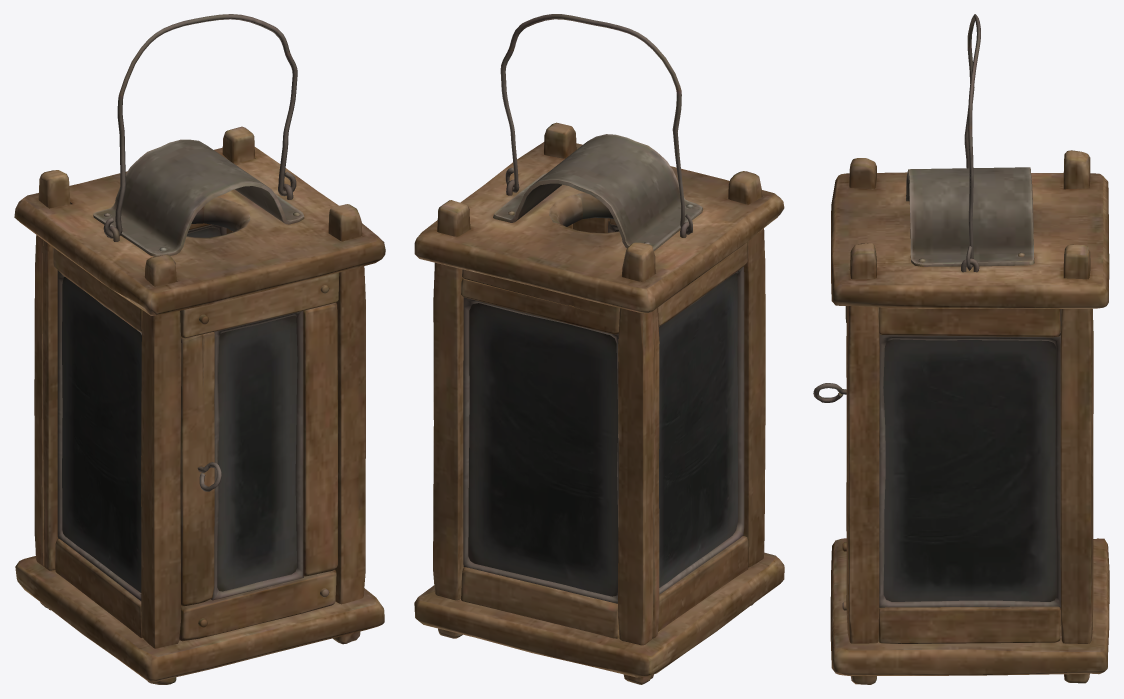
The model's file is wooden_lantern_01.glb.
3 renders of one model, left to right at view 1: azimuth 30°, elevation 25°; view 2: azimuth 150°, elevation 25°; view 3: azimuth 270°, elevation 25°, orthographic.
Parts seen in each view (by area): view 1: wooden_lantern_01; view 2: wooden_lantern_01; view 3: wooden_lantern_01.
Boxes of the visible parts, bbox=[...] form: wooden_lantern_01: bbox=[14, 14, 385, 684]; wooden_lantern_01: bbox=[414, 14, 784, 684]; wooden_lantern_01: bbox=[813, 14, 1109, 684].
Bounding box in the file's own units: 0.221 × 0.5301 × 0.2347.
2 materials, 2 textured.
